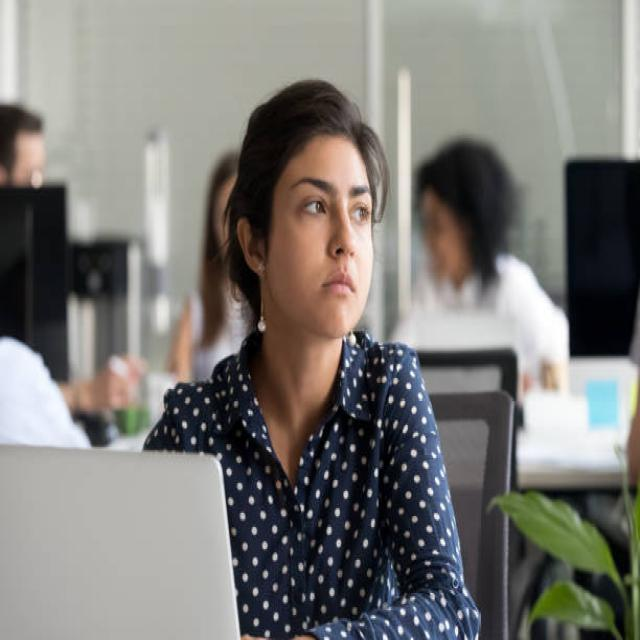Looking away: (276, 141, 375, 337)
